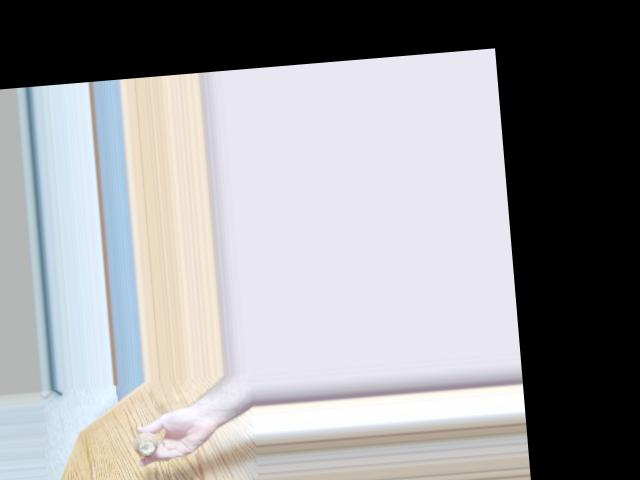sweet_potato: (131, 428, 156, 456)
